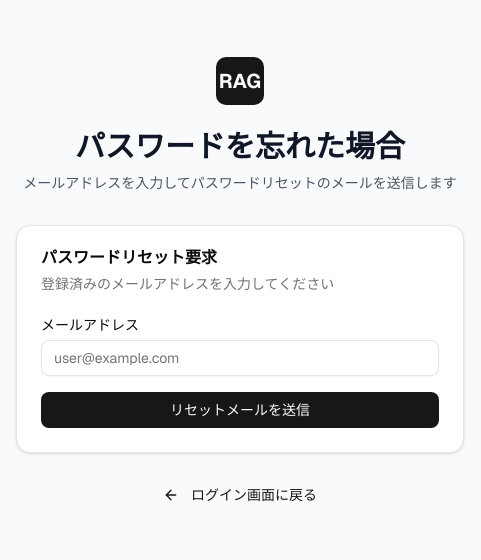
Test case: PasswordResetForm › リセット要求成功時のメッセージ表示
メールアドレスを入力
In the field labelled "メールアドレス": (240, 358) [41, 340, 439, 376], type "test@example.com"
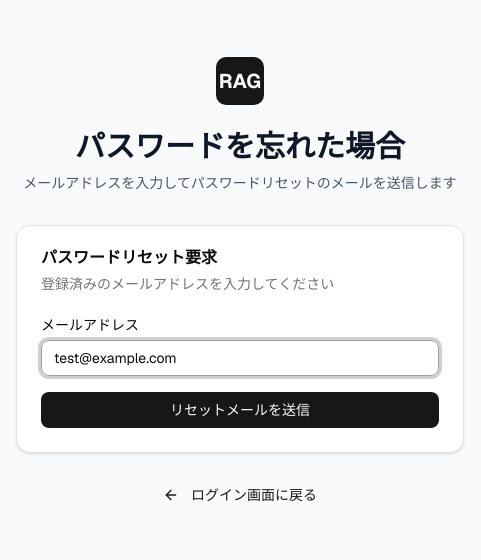
送信ボタンをクリック
Click the button "リセットメールを送信": click(240, 410) [41, 392, 439, 428]
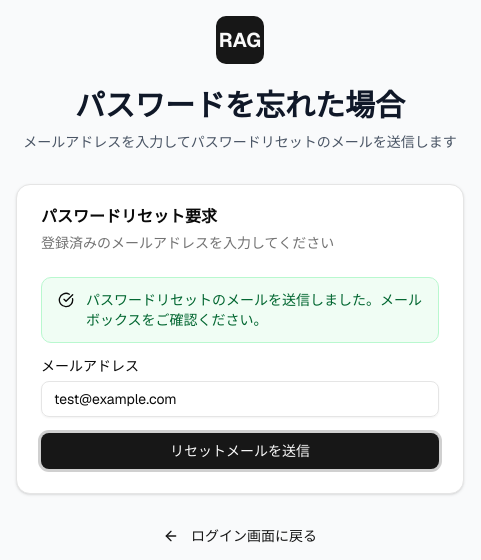
Expected: the text "パスワードリセットのメールを送信しました。メールボックスをご確認ください。" is shown, [86, 290, 422, 330]
